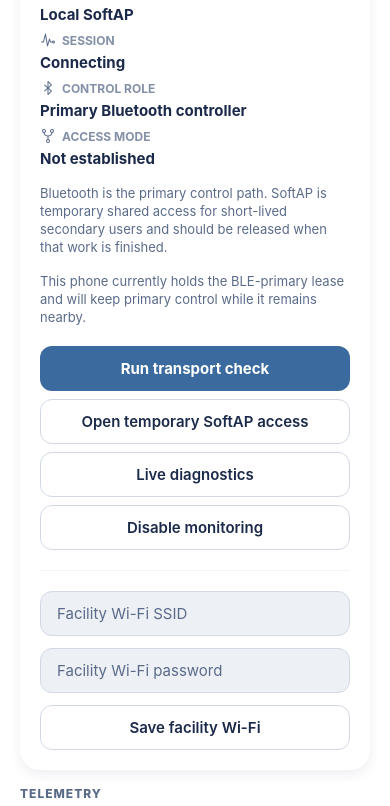
it: shows a user-facing reconnect error and lets developers copy the raw code
The width and height of the screenshot is (390, 806).
(page scrolled)
Click the text "Open temporary SoftAP access": {"x": 195, "y": 422} 81,412 -> 309,431
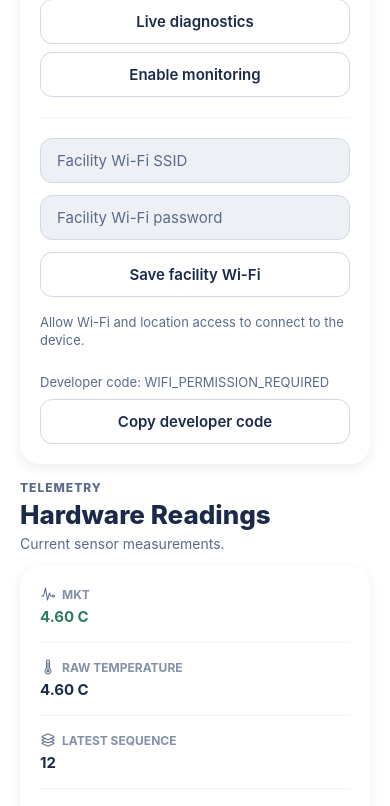
Expected: the text "Allow Wi-Fi and location access to connect to the device." is shown, 40,313 -> 350,349
Expected: the text "Developer code: WIFI_PERMISSION_REQUIRED" is shown, 40,373 -> 350,391
Click the text "Copy developer code": {"x": 195, "y": 422} 118,412 -> 272,431
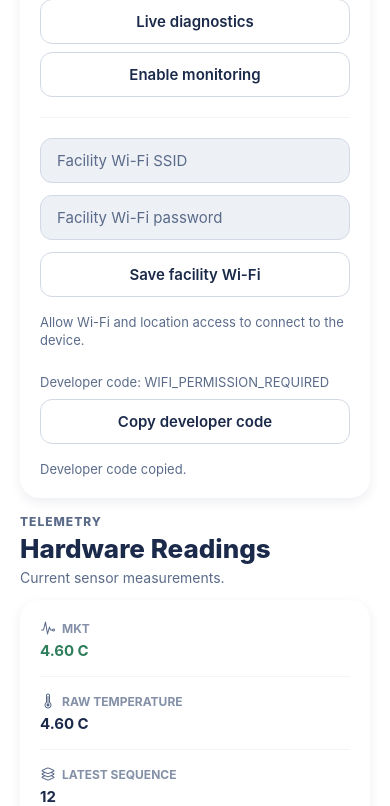
Expected: the text "Developer code copied." is shown, 40,461 -> 186,477
